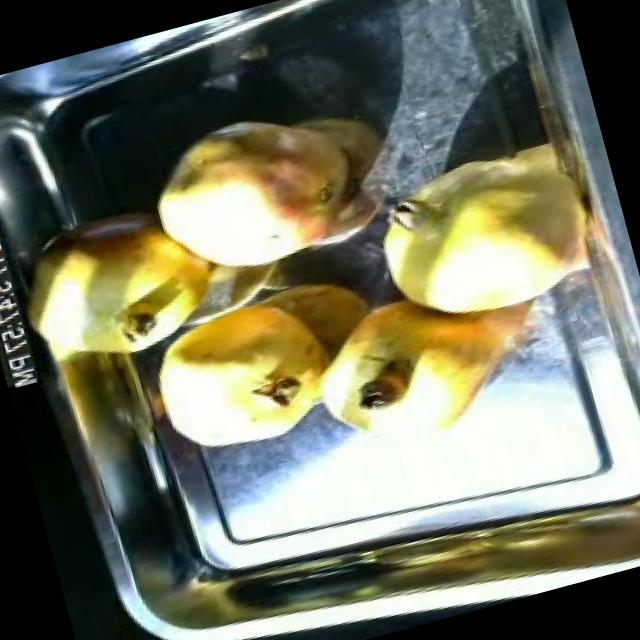fruit: (351, 117, 623, 351), (125, 82, 384, 300), (0, 179, 238, 385), (288, 266, 515, 474), (130, 282, 350, 470)
